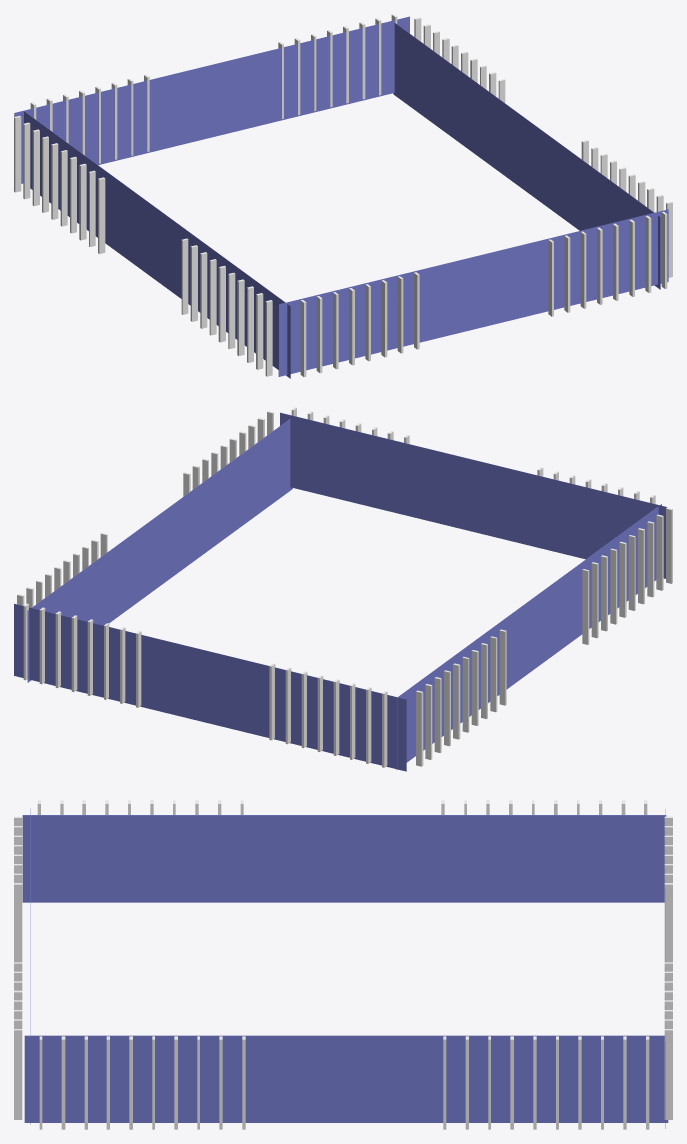
Rendered from outside0zip.glb.
3 renders of one model, top to bottom at view 1: azimuth 30°, elevation 25°; view 2: azimuth 150°, elevation 25°; view 3: azimuth 270°, elevation 25°, orthographic. The views are drawn at different scales.
Visible parts, largest first — view 1: 立方体.001, glass.001, glass.002, glass.003, glass.008; view 2: glass.002, 立方体.001, glass.001, glass.003, glass.008; view 3: glass.008, glass.003, 立方体.001.
Boxes of the visible parts, box(x1,y1,x2,y2) form: 立方体.001: box(14, 14, 672, 377); glass.001: box(14, 16, 409, 183); glass.002: box(278, 209, 668, 376); glass.003: box(393, 23, 660, 289); glass.008: box(24, 111, 290, 378); glass.002: box(280, 412, 666, 578); 立方体.001: box(17, 407, 672, 767); glass.001: box(14, 603, 406, 771); glass.003: box(27, 419, 292, 682); glass.008: box(396, 504, 661, 769); glass.008: box(22, 815, 666, 902); glass.003: box(24, 1035, 668, 1122); 立方体.001: box(14, 800, 672, 1129).
Size of the model in its own units: 35.19 by 6.47 by 40.96.
